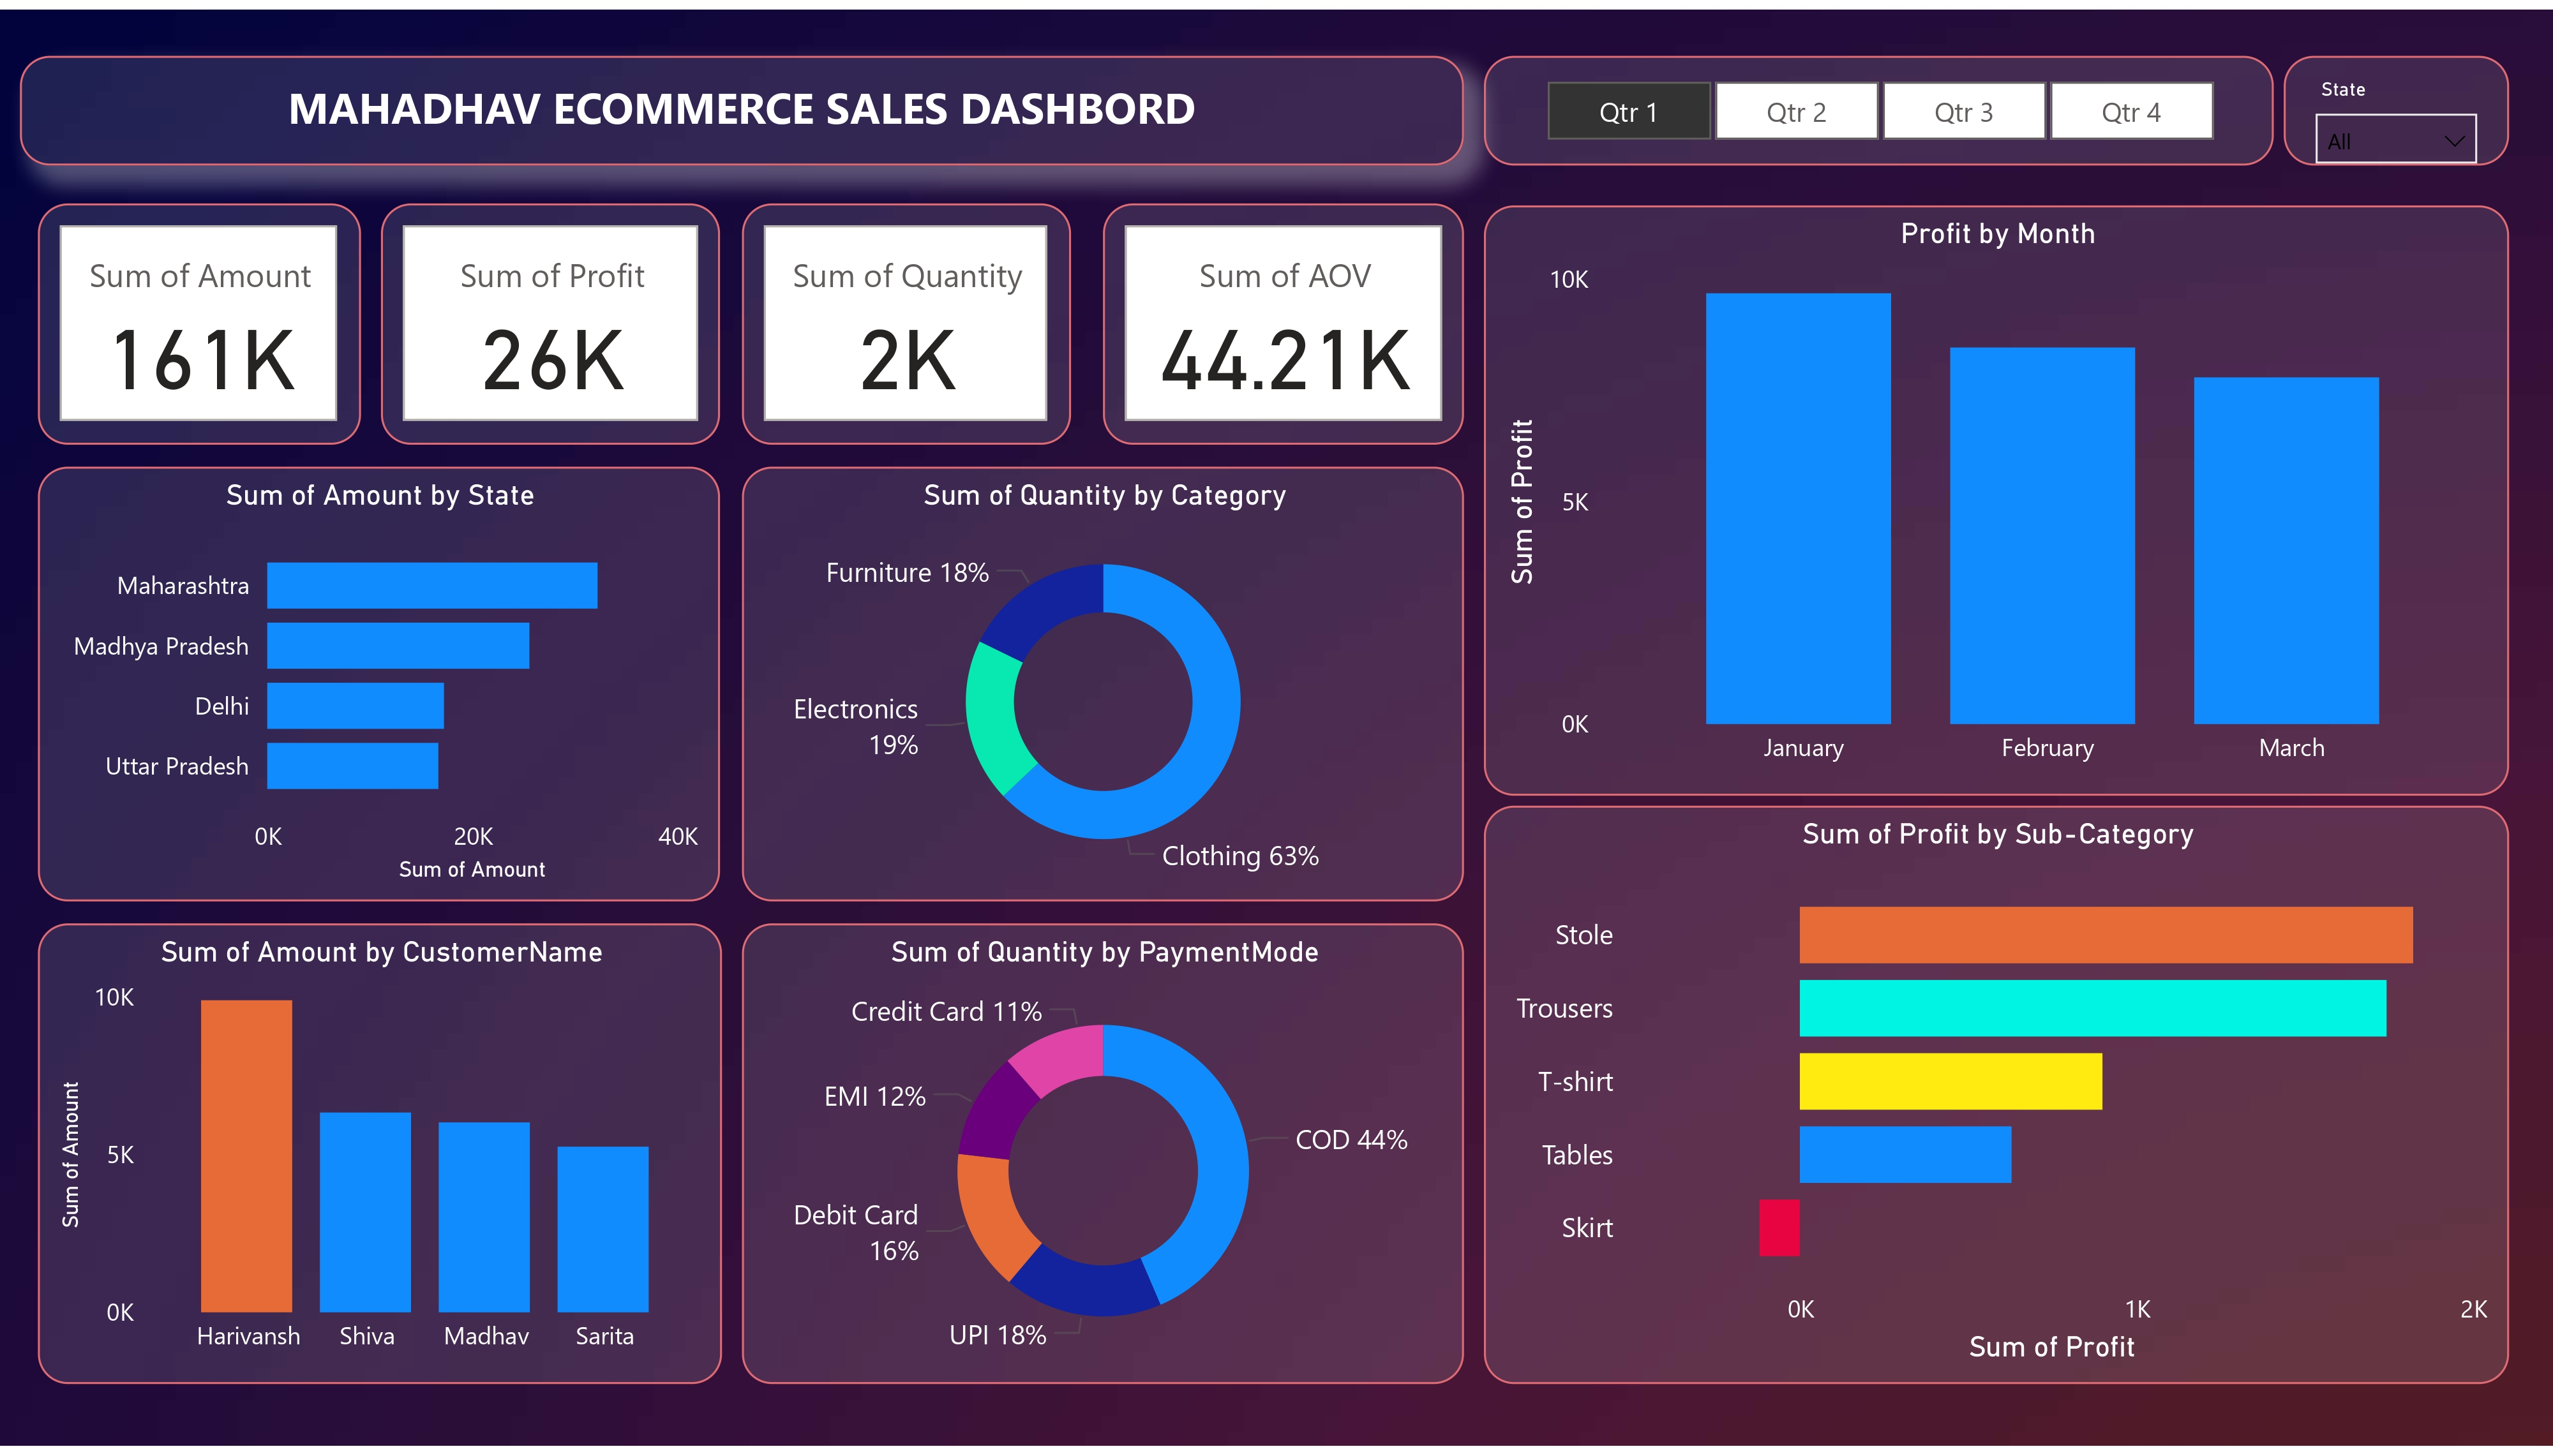

Layout of this report page (visuals, bound fields, positions):
{"tool":"powerbi","page":{"name":"Page 1","canvas":[1280,720],"ordinal":0},"visuals":[{"type":"textbox","box":[9.7,22.9,723.9,55.5],"z":0},{"type":"columnChart","title":" Profit by Month","fields":{"Category":["Orders.Order Date.Variation.Date Hierarchy.Month"],"Y":["Sum(Details.Profit)"]},"box":[744.4,97.7,513.9,295.6],"z":1000},{"type":"barChart","fields":{"Category":["Details.Sub-Category"],"Y":["Sum(Details.Profit)"]},"box":[744.4,399.3,513.9,289.5],"z":2000},{"type":"donutChart","fields":{"Category":["Details.Category"],"Y":["Sum(Details.Quantity)"]},"box":[371.9,229.2,362.3,218.2],"z":3000},{"type":"donutChart","fields":{"Y":["Sum(Details.Quantity)"],"Category":["Details.PaymentMode"]},"box":[371.9,458.3,362.3,230.5],"z":4000},{"type":"cardVisual","fields":{"Data":["Sum(Details.Profit)"]},"box":[190.7,97.4,170.2,120.8],"z":5000},{"type":"cardVisual","fields":{"Data":["Sum(Details.Quantity)"]},"box":[371.9,97.4,164.7,120.8],"z":6000},{"type":"cardVisual","fields":{"Data":["Sum(Details.AOV)"]},"box":[553,97.4,181.1,120.8],"z":7000},{"type":"barChart","fields":{"Y":["Sum(Details.Amount)"],"Category":["Orders.State"]},"box":[19.2,229.2,341.7,218.2],"z":8000},{"type":"columnChart","fields":{"Category":["Orders.CustomerName"],"Y":["Sum(Details.Amount)"]},"box":[19.2,458.3,343.1,230.5],"z":9000},{"type":"slicer","fields":{"Values":["Orders.Order Date.Variation.Date Hierarchy.Quarter"]},"box":[744.4,22.9,395.7,55.5],"z":10000},{"type":"cardVisual","fields":{"Data":["Sum(Details.Amount)"]},"box":[19.2,97.4,161.9,120.8],"z":11000},{"type":"slicer","fields":{"Values":["Orders.State"]},"box":[1144.9,22.9,113.4,55.5],"z":12000}]}

Visuals, with their boxes in screenshot pixels (x1, y1, x2, y2), scaled from the page's 1280x720 canvas onto the 2553x1456 screenshot:
textbox: locate(19, 47, 1463, 158)
" Profit by Month" columnChart: locate(1485, 198, 2510, 796)
barChart - Details.Sub-Category x Sum(Details.Profit): locate(1485, 808, 2510, 1393)
donutChart - Details.Category x Sum(Details.Quantity): locate(742, 463, 1464, 905)
donutChart - Sum(Details.Quantity) x Details.PaymentMode: locate(742, 927, 1464, 1393)
cardVisual - Sum(Details.Profit): locate(380, 197, 720, 442)
cardVisual - Sum(Details.Quantity): locate(742, 197, 1070, 442)
cardVisual - Sum(Details.AOV): locate(1103, 197, 1464, 442)
barChart - Sum(Details.Amount) x Orders.State: locate(38, 463, 720, 905)
columnChart - Orders.CustomerName x Sum(Details.Amount): locate(38, 927, 722, 1393)
slicer - Orders.Order Date.Variation.Date Hierarchy.Quarter: locate(1485, 47, 2274, 158)
cardVisual - Sum(Details.Amount): locate(38, 197, 361, 442)
slicer - Orders.State: locate(2284, 47, 2510, 158)
